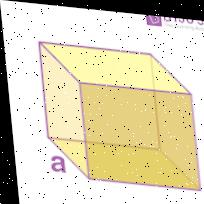cube: (37, 35, 199, 187)
